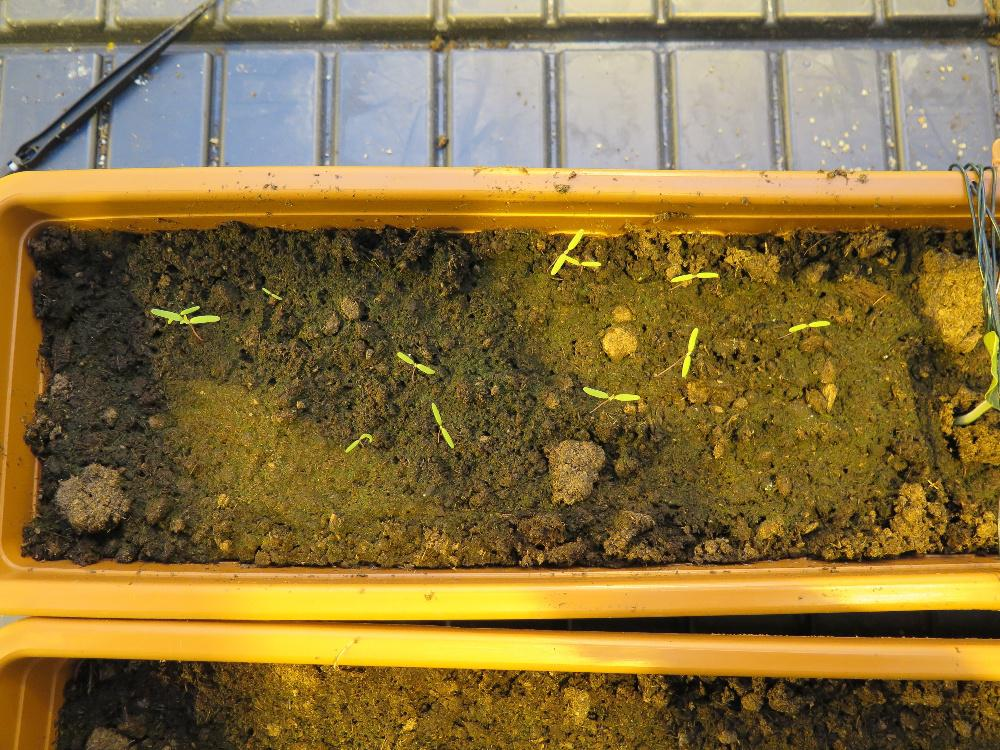weed: (429, 399, 455, 450), (679, 324, 698, 378), (395, 350, 435, 375), (581, 384, 639, 401), (342, 430, 373, 455), (669, 270, 719, 283), (787, 317, 830, 332), (259, 283, 283, 301)
